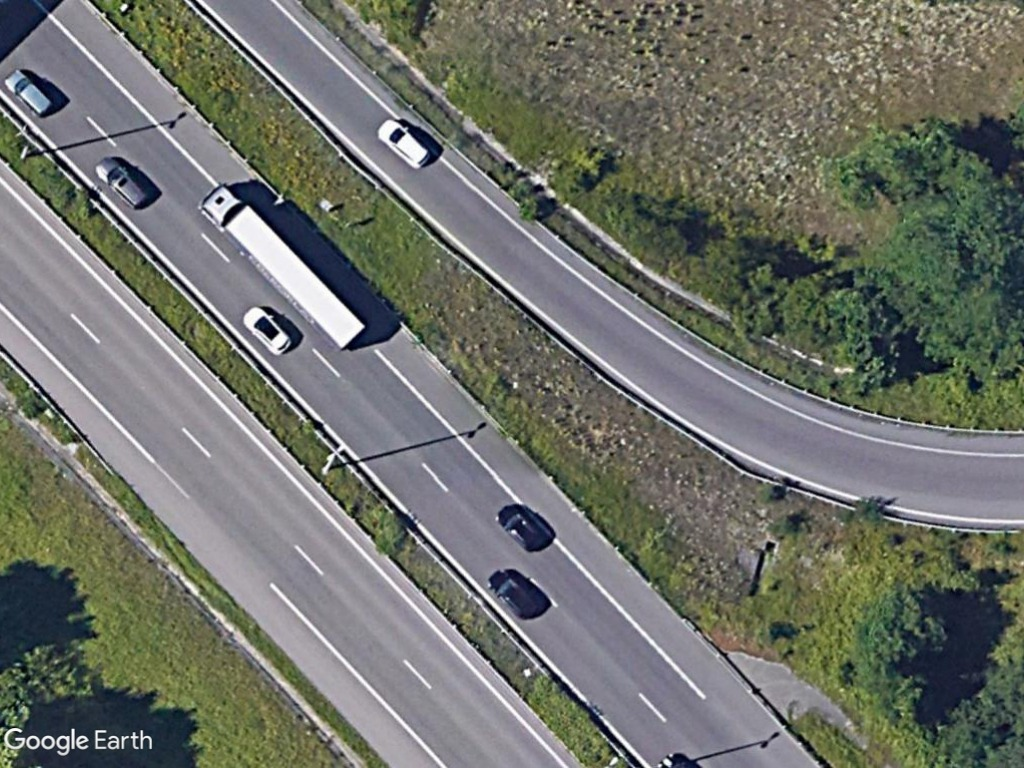car: (373, 117, 433, 170), (95, 155, 151, 211), (496, 500, 551, 555), (240, 303, 293, 359), (486, 569, 541, 619), (2, 70, 55, 119)
longvehicle: (198, 180, 369, 354)
